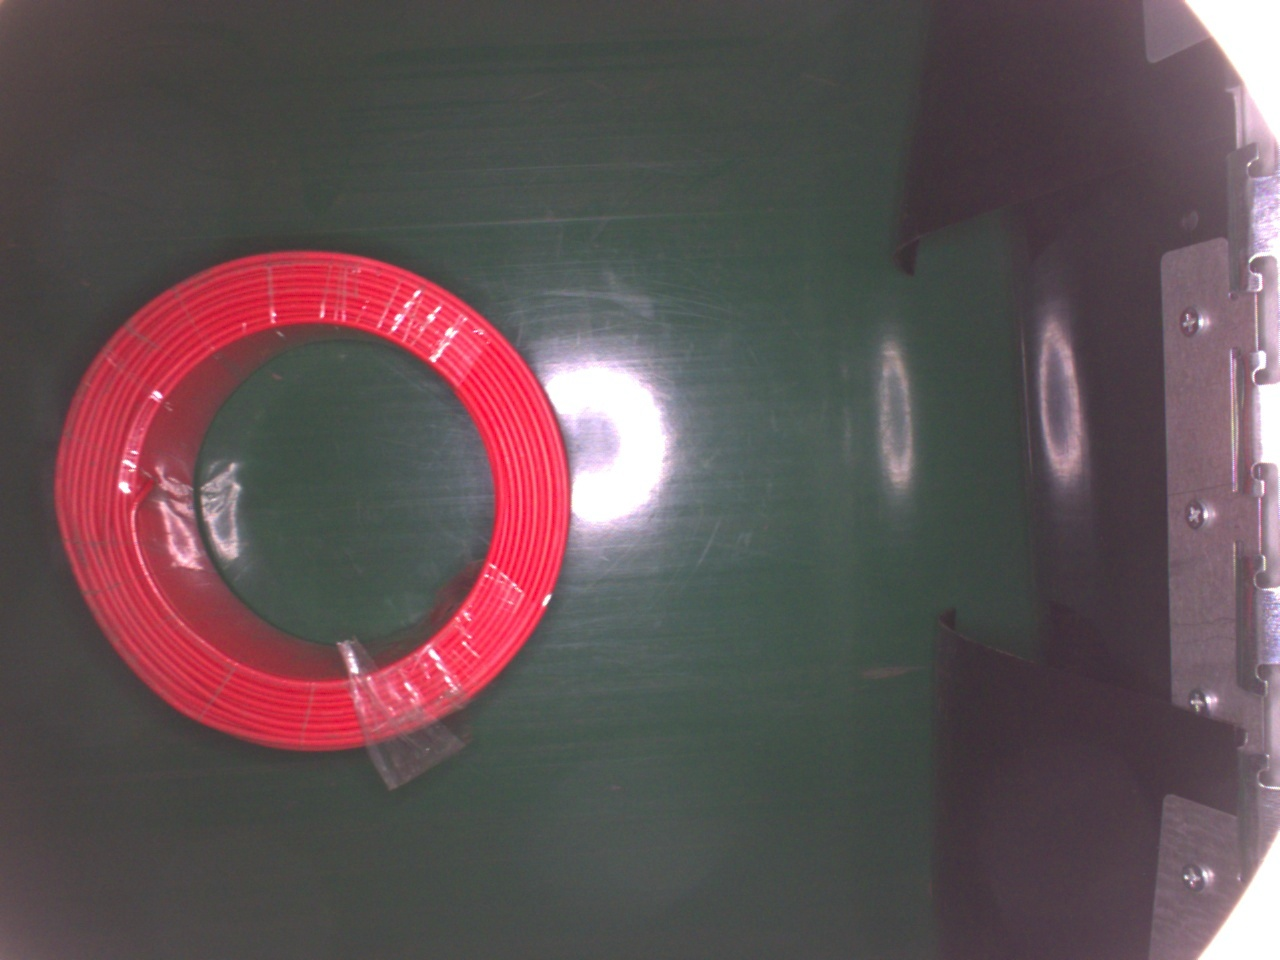red: (53, 248, 571, 754)
